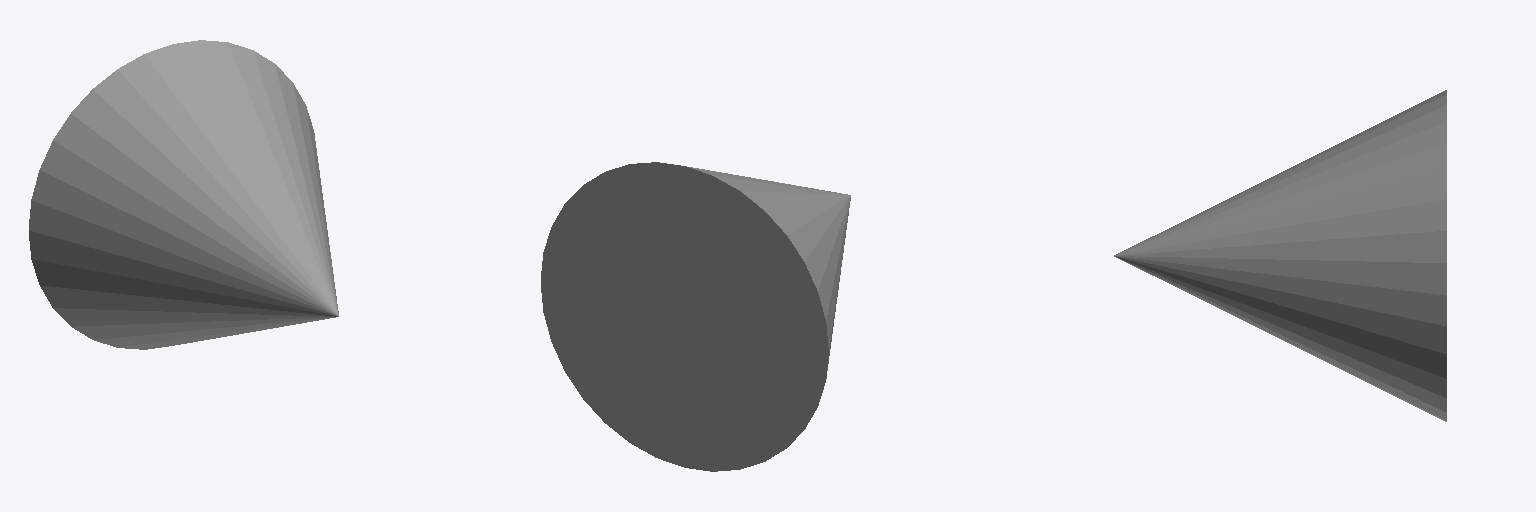
Rendered from ConeA.obj.
The picture shows the model from 3 angles: view 1: azimuth 30°, elevation 25°; view 2: azimuth 150°, elevation 25°; view 3: azimuth 270°, elevation 25°; orthographic projection.
Parts seen in each view (by area): view 1: Cone; view 2: Cone; view 3: Cone.
Part boxes in pixels (x1,y1,x2,y2): Cone: (29,40,338,349); Cone: (541,162,850,471); Cone: (1114,90,1446,421).
Bounding box in the file's own units: 2 × 2 × 2.